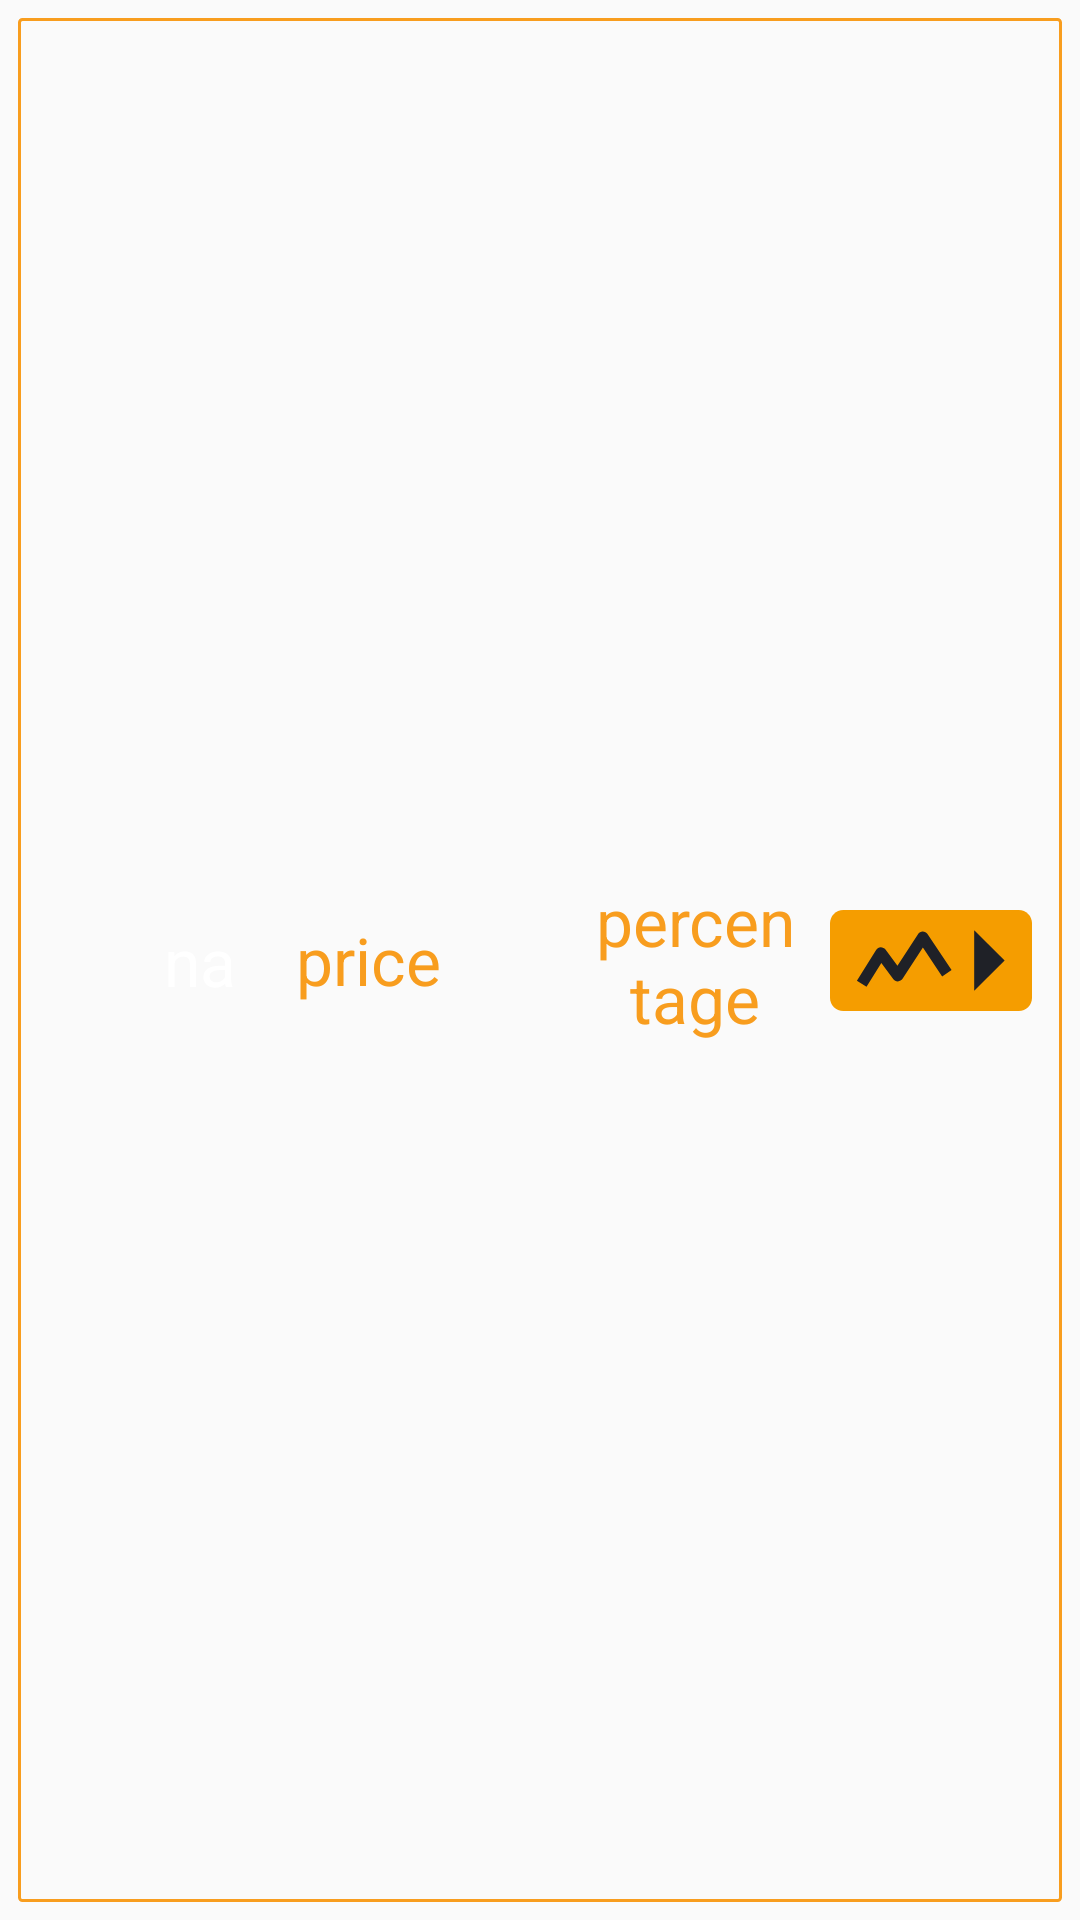

Icon click points for this 1080 x 1920 phone screenshot, format point (x, y):
coin details: point (931, 960)
